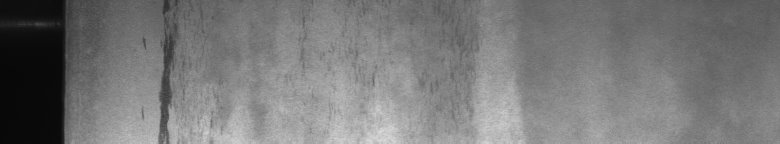hd: (157, 4, 176, 136)
